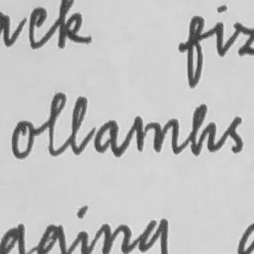a: (92, 117, 121, 158)
h: (187, 102, 219, 158)
l: (46, 90, 68, 158), (69, 94, 89, 157)
m: (130, 113, 181, 156)
o: (10, 119, 36, 161)
s: (224, 114, 245, 156)
